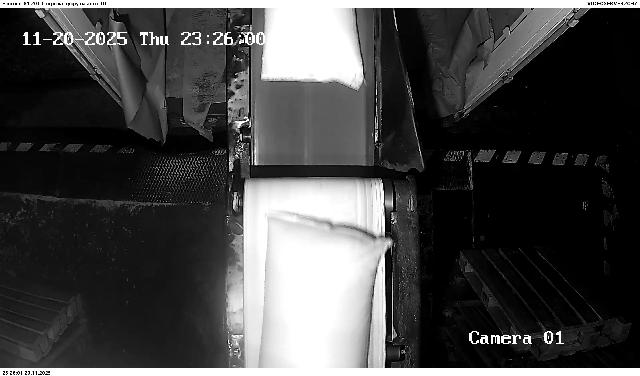bag: (259, 212, 392, 369), (261, 8, 365, 90)
